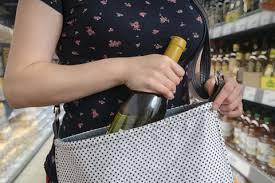shoplifting: (22, 11, 231, 173)
